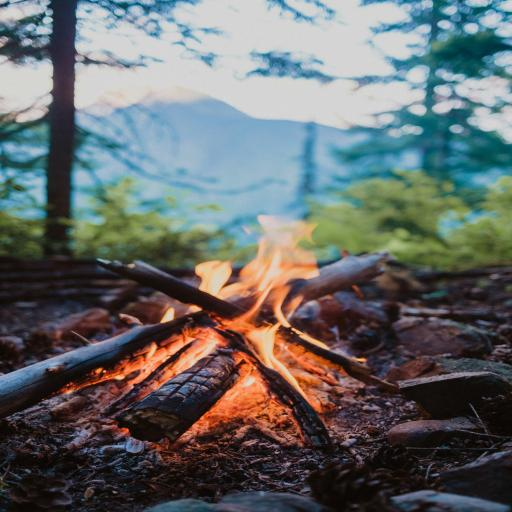campfire: (58, 186, 487, 430)
